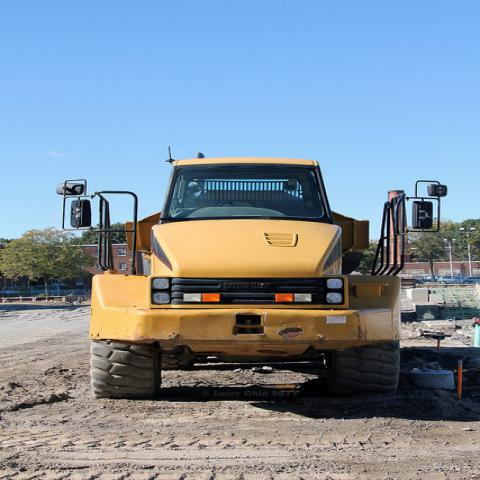car: (437, 276, 474, 284), (401, 275, 423, 287), (462, 276, 479, 284), (421, 275, 438, 282)
truck: (61, 150, 451, 403)
